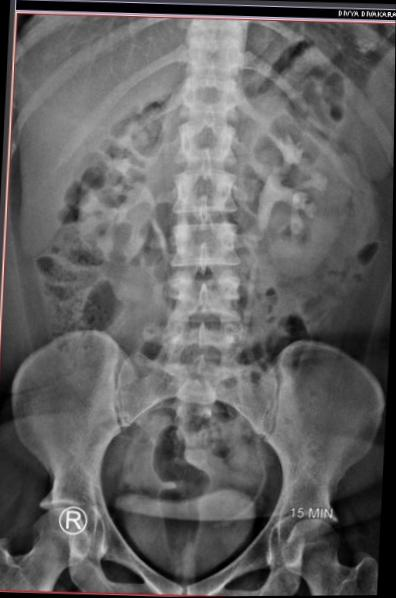bladder: (101, 480, 262, 584)
left kidney: (239, 96, 360, 280)
right kidney: (62, 96, 167, 264)
vertebrae: (168, 111, 240, 162)
